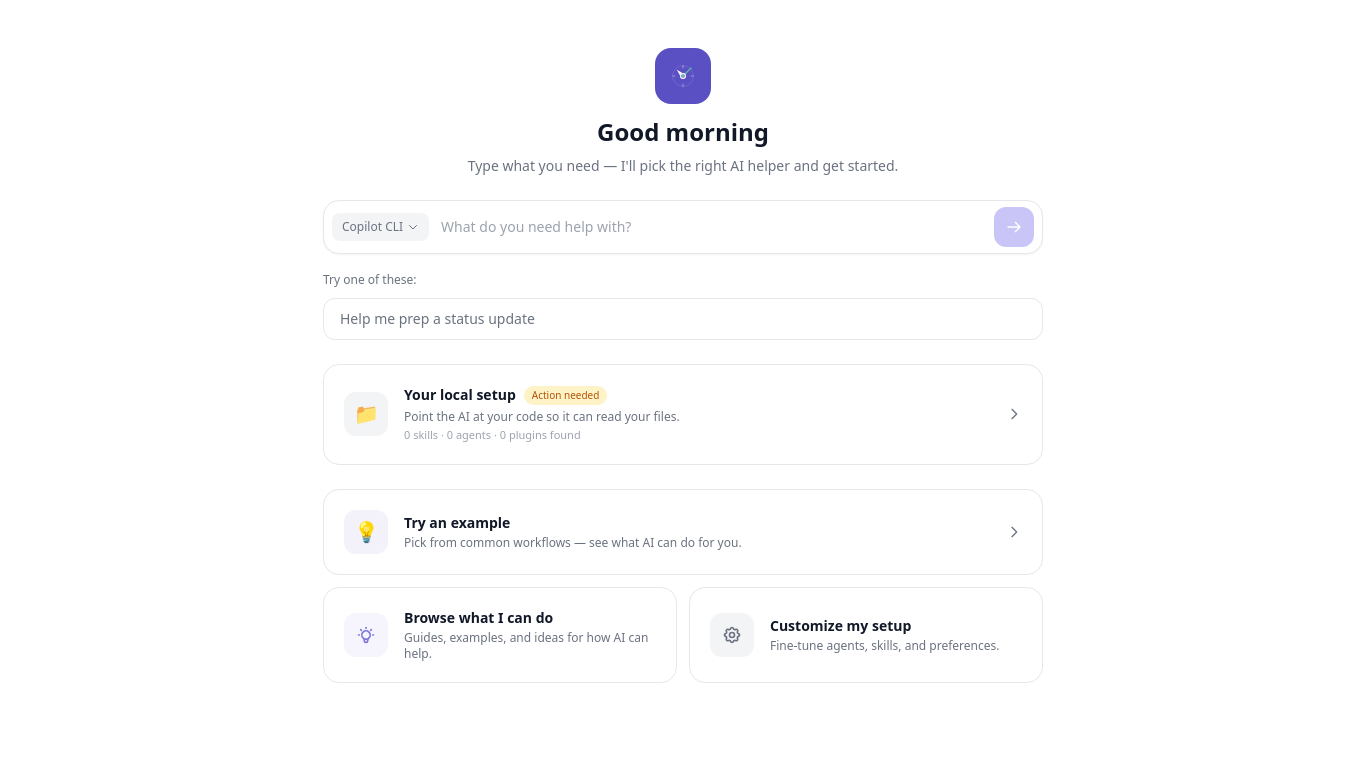
HomeHub — Mode B (setup complete) › picking an example in the modal fills the home input
Click the heading "Try an example".
click(457, 522)  # box top-left (404, 512), bottom-right (510, 532)
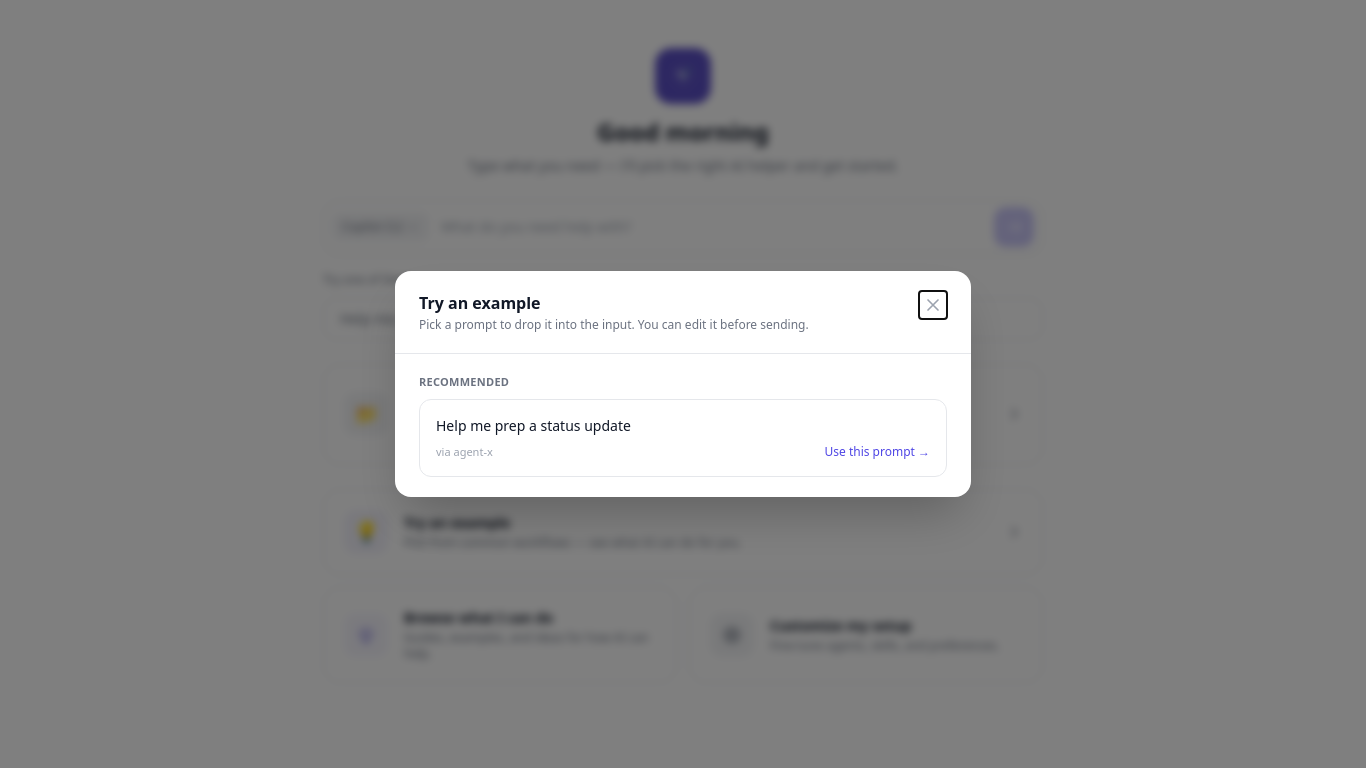
Click the button "Use this prompt →".
click(877, 452)  # box top-left (824, 444), bottom-right (930, 460)
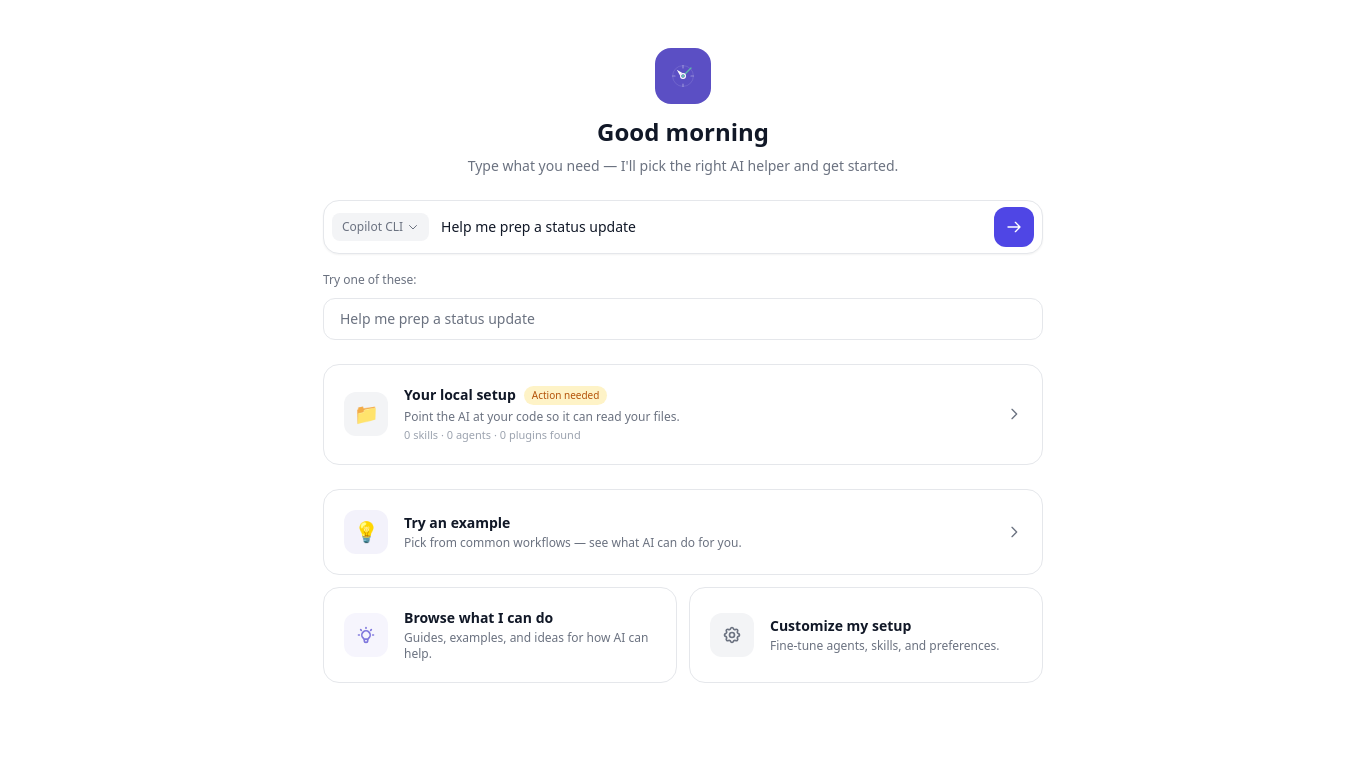
Now the field with placeholder "What do you need help with?" holds "Help me prep a status update", box top-left (429, 201), bottom-right (994, 253)
